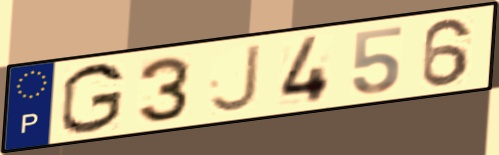3: (136, 54, 193, 124)
4: (276, 33, 332, 106)
5: (349, 23, 404, 97)
6: (419, 15, 476, 90)
G: (58, 61, 127, 137)
J: (207, 41, 263, 115)
